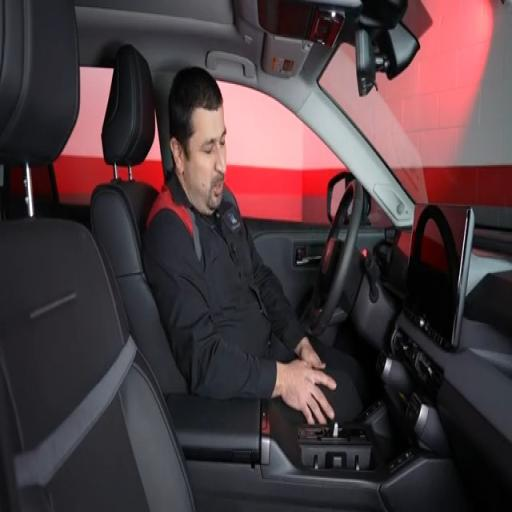side_mirror: (376, 23, 419, 79), (327, 171, 354, 223), (327, 171, 353, 223)
window: (220, 83, 345, 224)
windshield: (320, 0, 511, 227)
